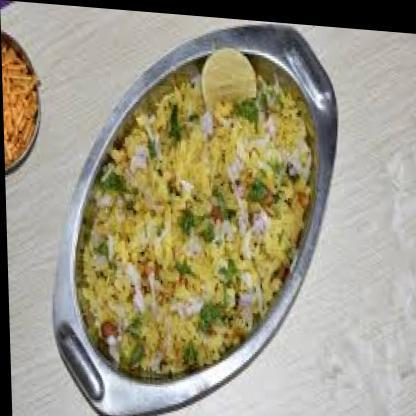poha: (73, 35, 317, 384)
